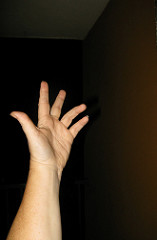palm: (36, 118, 76, 169)
